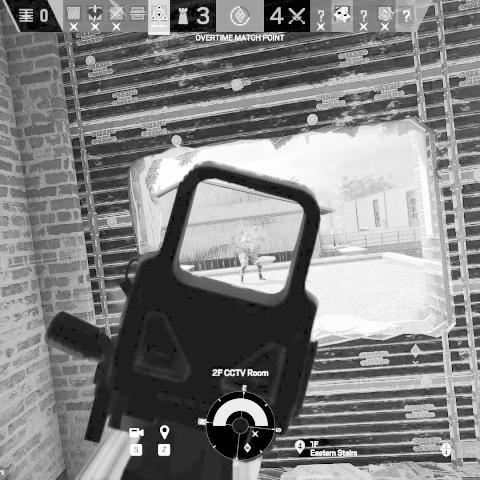Character: (236, 226, 266, 286)
Head: (252, 226, 259, 235)
